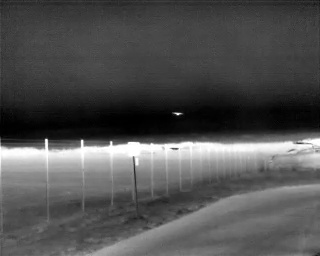AIRPLANE: (171, 109, 185, 118)
